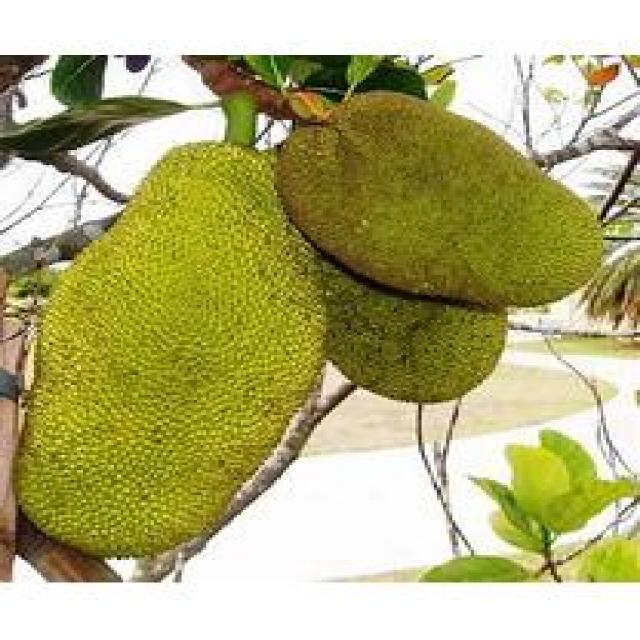Fruit: (0, 130, 369, 560), (256, 75, 622, 335)
